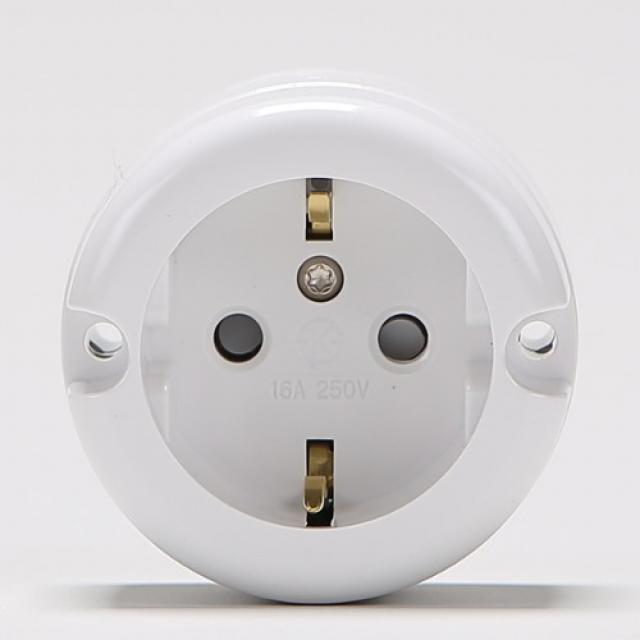typeb: (0, 45, 623, 640)
